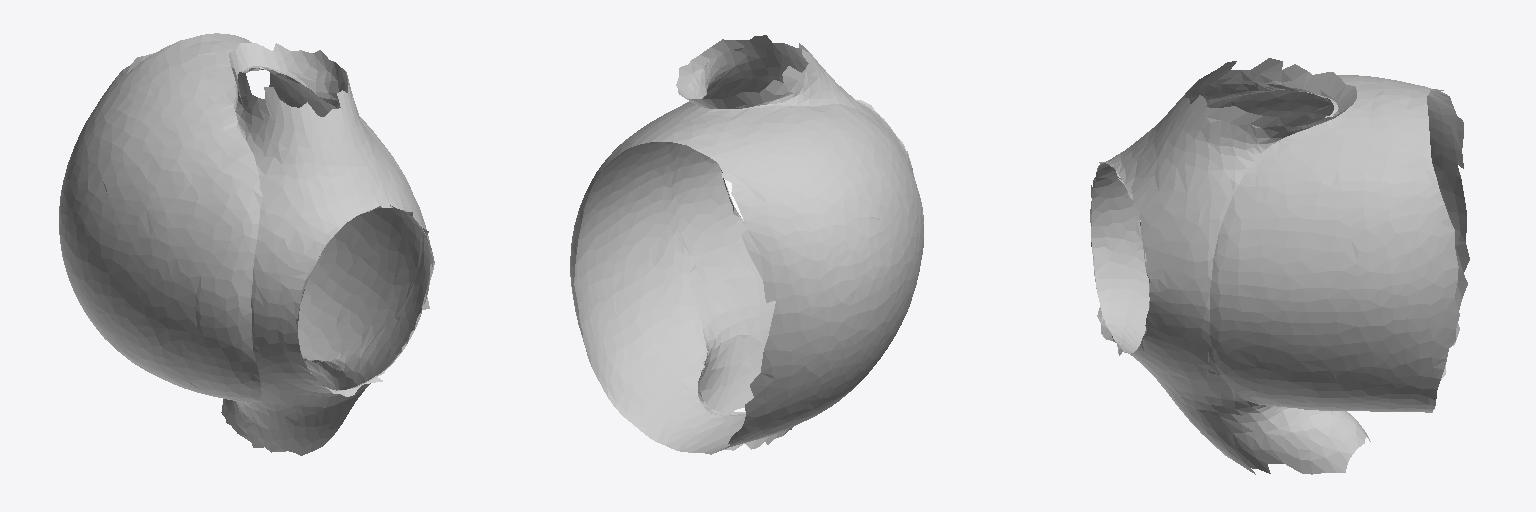
The model's file is mask.obj.
The picture shows the model from 3 angles: view 1: azimuth 30°, elevation 25°; view 2: azimuth 150°, elevation 25°; view 3: azimuth 270°, elevation 25°; orthographic projection.
Size of the model in its own units: 0.6506 by 0.8161 by 0.7385.